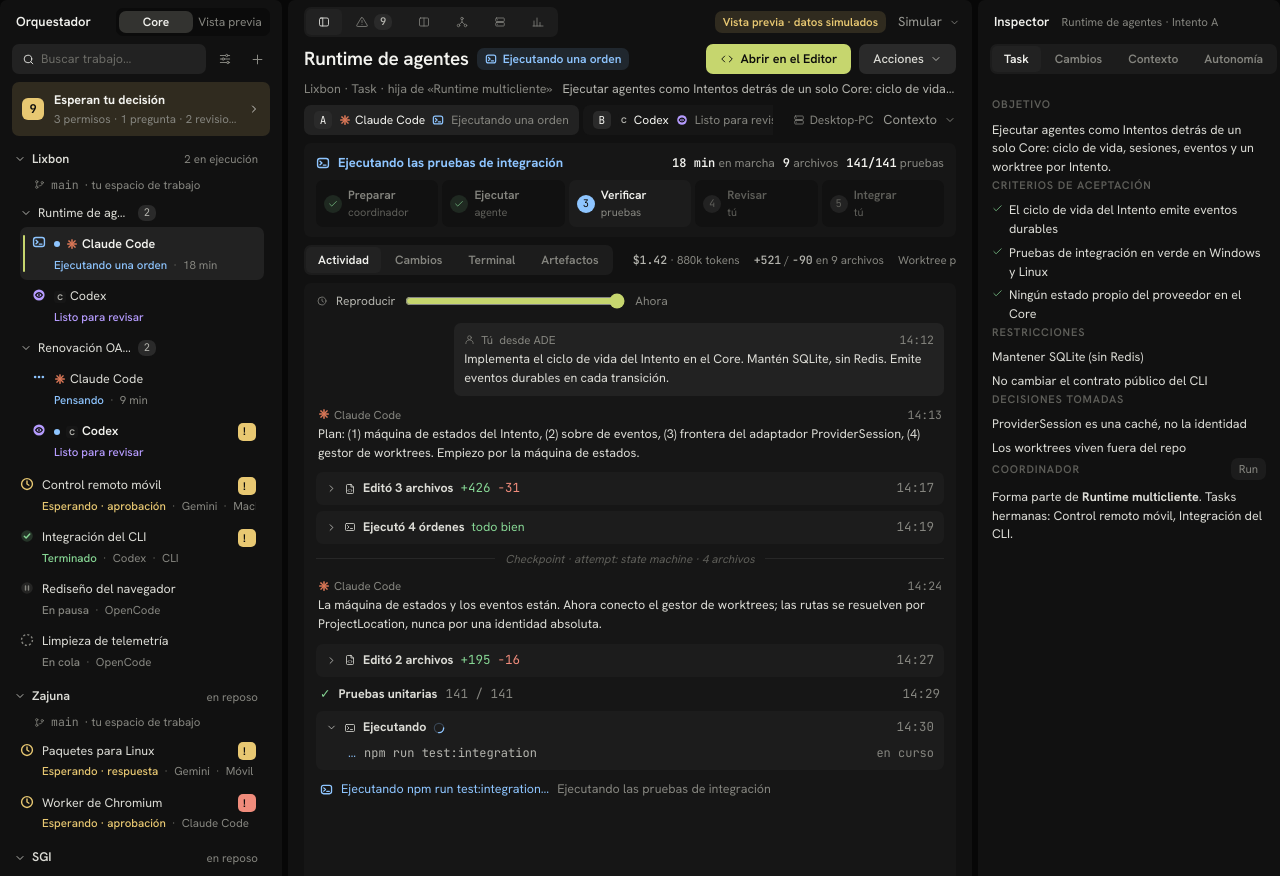
Test: Vista previa del ADE › el riesgo alto no ofrece permitir en todo el Intento
Click the tab named "Attention": (374, 22) 344,9 -> 404,35
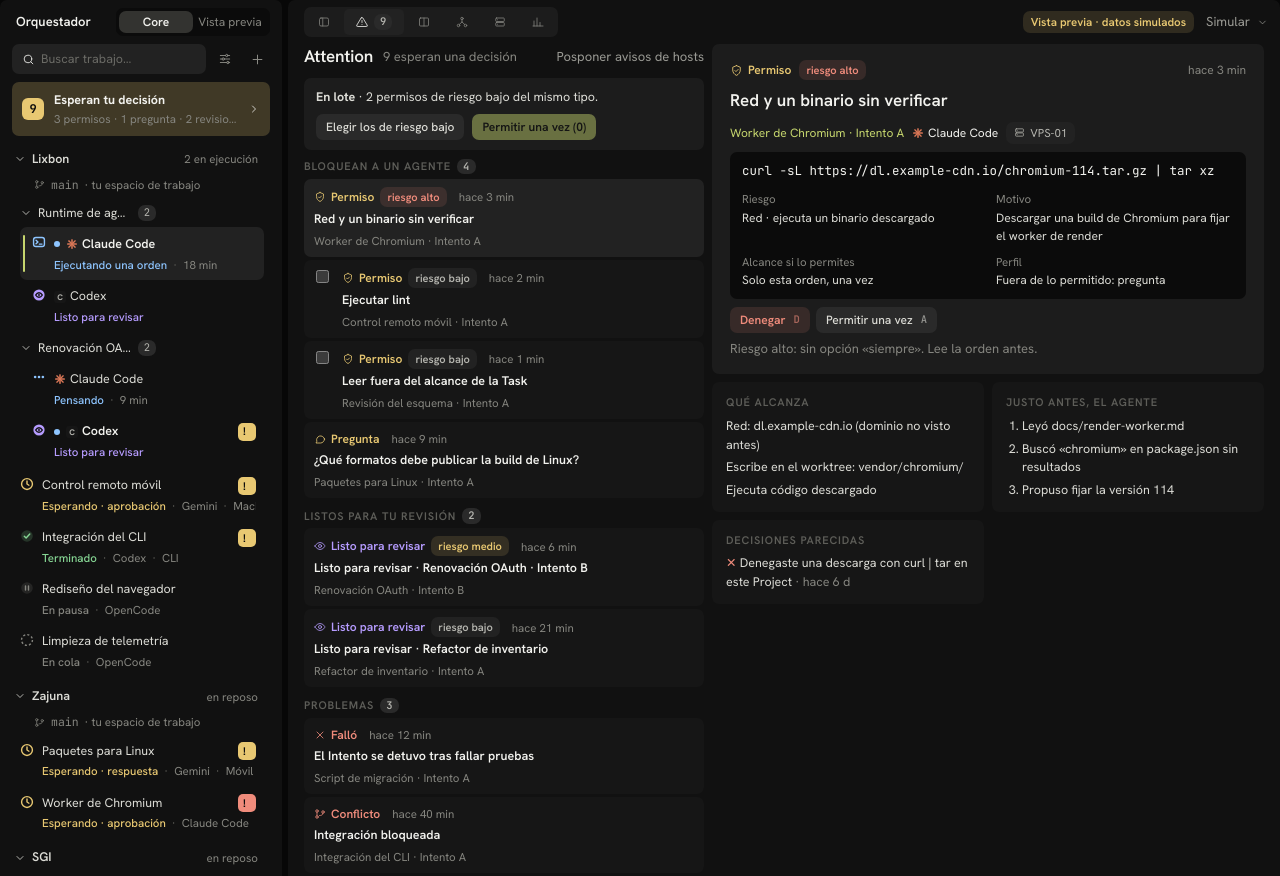
Check: the text "Riesgo alto: sin opción «siempre». Lee la orden antes." is shown, box 730,339 -> 1037,358
